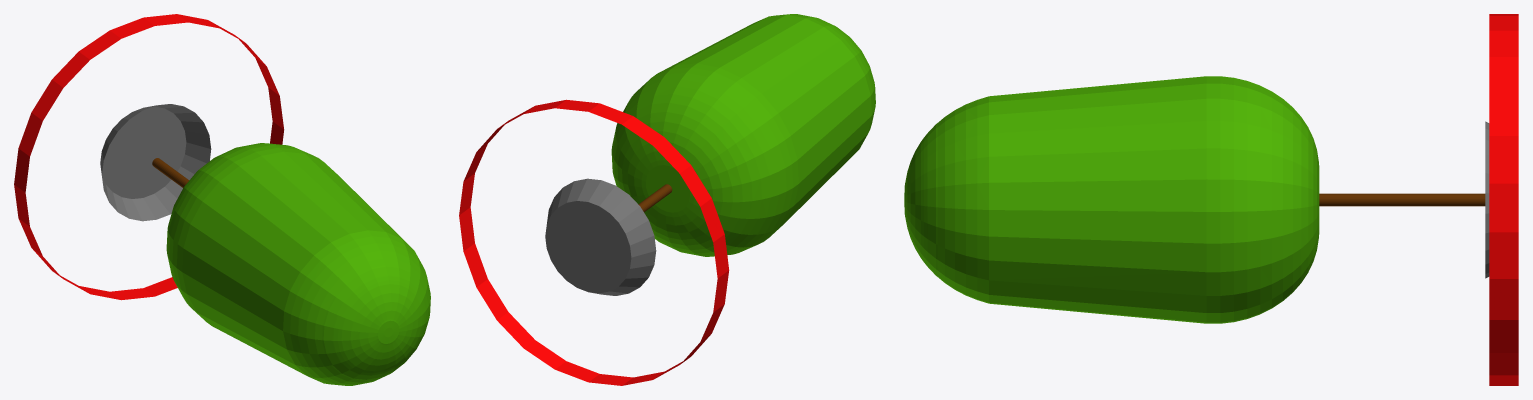
The model's file is HPS14m.obj.
The picture shows the model from 3 angles, left to right: view 1: azimuth 30°, elevation 25°; view 2: azimuth 150°, elevation 25°; view 3: azimuth 270°, elevation 25°; orthographic projection. The views are drawn at different scales.
Bounding box in the file's own units: 9 × 9 × 14.8.
